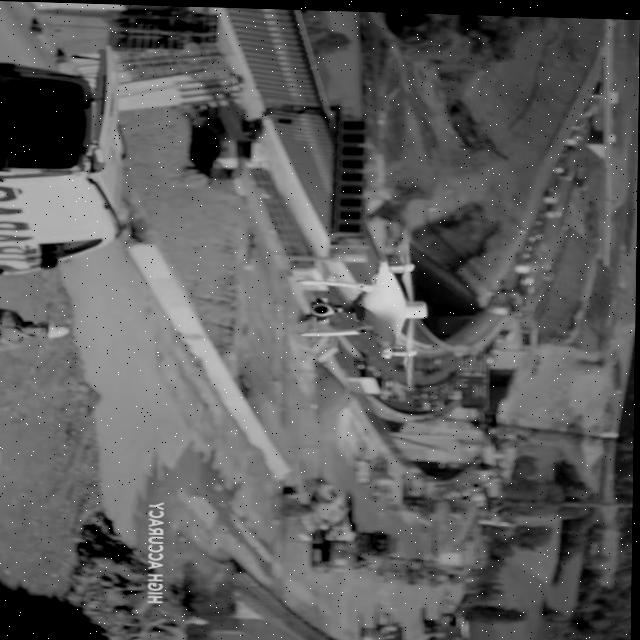drone: (295, 225, 434, 384)
